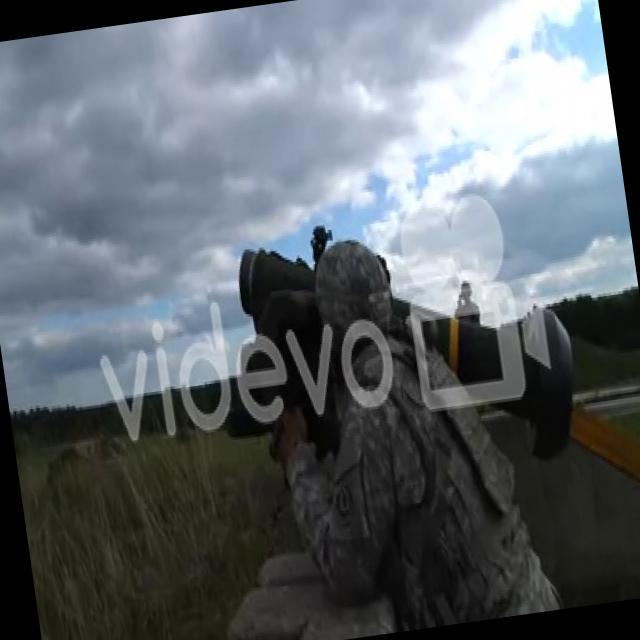rocket: (234, 202, 584, 492)
